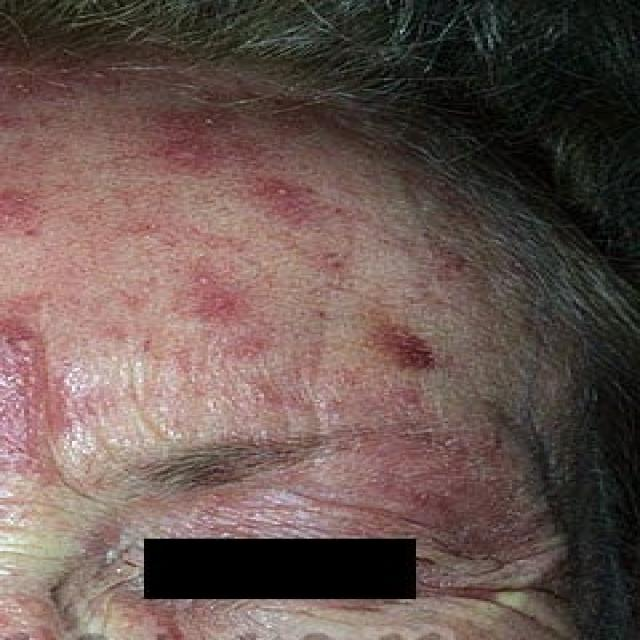Rosacea: (138, 107, 311, 240), (153, 271, 260, 361)
